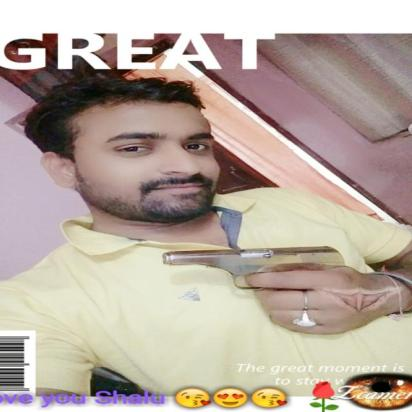Gun: (160, 245, 361, 325)
